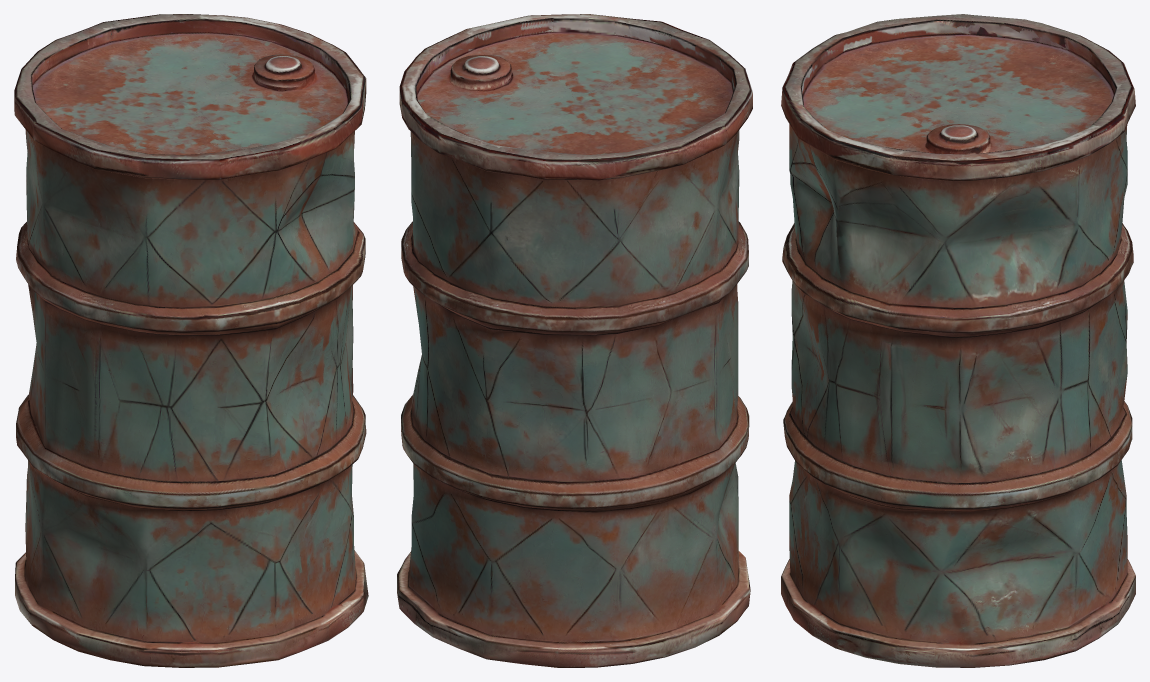
The model's file is Meshy_AI_tong_0330100517_texture.fbx.
3 views of the same model, side by side, from view 1: azimuth 30°, elevation 25°; view 2: azimuth 150°, elevation 25°; view 3: azimuth 270°, elevation 25° (orthographic).
Visible parts, largest first — view 1: Mesh_0; view 2: Mesh_0; view 3: Mesh_0.
Part boxes in pixels (x1,y1,x2,y2): Mesh_0: (14,14,368,667); Mesh_0: (397,14,752,667); Mesh_0: (781,14,1135,667).
Bounding box in the file's own units: 120 × 191 × 120.
1 material, 1 textured.
